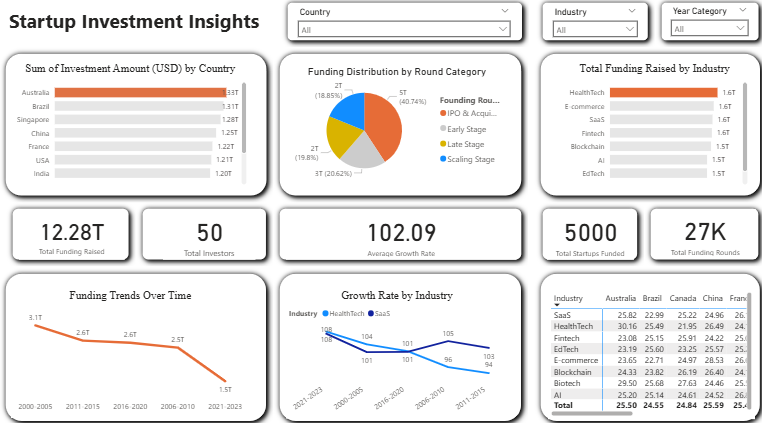

Layout of this report page (visuals, bound fields, positions):
{"tool":"powerbi","page":{"name":"Page 2","canvas":[1280,720],"ordinal":0},"visuals":[{"type":"shape","box":[0,85.3,456.9,258.8],"z":0},{"type":"shape","box":[456.9,85.3,425.3,258.8],"z":1000},{"type":"shape","box":[891.9,85.3,388.1,258.8],"z":2000},{"type":"shape","box":[0,451.4,456.9,268.4],"z":3000},{"type":"shape","box":[456.9,451.4,425.3,268.4],"z":4000},{"type":"shape","box":[891.9,451.4,388.1,268.4],"z":5000},{"type":"shape","box":[12.4,344.1,216.1,107.4],"z":6000},{"type":"shape","box":[456.9,344.1,425.3,107.4],"z":7000},{"type":"shape","box":[228.5,344.1,228.5,107.4],"z":8000},{"type":"shape","box":[894.6,344.1,180.3,107.4],"z":9000},{"type":"shape","box":[1074.9,342.7,202.3,107.4],"z":10000},{"type":"shape","box":[469.3,0,412.9,85.3],"z":11000},{"type":"shape","box":[894.6,0,198.2,85.3],"z":12000},{"type":"shape","box":[1092.8,0,184.4,85.3],"z":13000},{"type":"clusteredBarChart","fields":{"Category":["startup_growth_investment_data.Country"],"Y":["Sum(startup_growth_investment_data.Investment Amount (USD))"]},"box":[20.6,110.1,397.8,209.2],"z":14000},{"type":"pieChart","title":"Funding Distribution by Round Category","fields":{"Category":["startup_growth_investment_data.Founding Round Category"],"Y":["Sum(startup_growth_investment_data.Investment Amount (USD))"]},"box":[479,114.2,370.2,199.6],"z":15000},{"type":"clusteredBarChart","fields":{"Y":["startup_growth_investment_data.Total Funding Raised"],"Category":["startup_growth_investment_data.Industry"]},"box":[933.2,110.1,319.3,209.2],"z":16000},{"type":"card","fields":{"Values":["startup_growth_investment_data.Total Funding Raised"]},"box":[33,356.5,176.2,82.6],"z":17000},{"type":"card","fields":{"Values":["startup_growth_investment_data.Total Startups Funded"]},"box":[912.5,356.5,144.5,82.6],"z":18000},{"type":"card","fields":{"Values":["startup_growth_investment_data.Total Investors"]},"box":[273.9,356.5,154.2,82.6],"z":19000},{"type":"card","fields":{"Values":["startup_growth_investment_data.Average Growth Rate"]},"box":[479,356.5,384,82.6],"z":20000},{"type":"card","fields":{"Values":["startup_growth_investment_data.Total Funding Rounds"]},"box":[1092.8,355.1,167.9,82.6],"z":21000},{"type":"lineChart","title":"Funding Trends Over Time ","fields":{"Y":["Sum(startup_growth_investment_data.Investment Amount (USD))"],"Category":["startup_growth_investment_data.Year Category"]},"box":[20.6,488.6,397.8,214.7],"z":22000},{"type":"lineChart","title":"Growth Rate by Industry ","fields":{"Category":["startup_growth_investment_data.Year Category"],"Y":["Avg(startup_growth_investment_data.Growth Rate (%))"],"Series":["startup_growth_investment_data.Industry"]},"box":[479,488.6,370.2,216.1],"z":23000},{"type":"pivotTable","fields":{"Rows":["startup_growth_investment_data.Industry"],"Columns":["startup_growth_investment_data.Country"],"Values":["startup_growth_investment_data.Avg Investors"]},"box":[915.3,488.6,345.5,217.5],"z":24000},{"type":"slicer","fields":{"Values":["startup_growth_investment_data.Country"]},"box":[488.6,13.8,374.4,59.2],"z":25000},{"type":"slicer","fields":{"Values":["startup_growth_investment_data.Industry"]},"box":[912.5,13.8,161,59.2],"z":26000},{"type":"slicer","fields":{"Values":["startup_growth_investment_data.Year Category"]},"box":[1110.7,12.4,148.6,60.6],"z":27000},{"type":"textbox","box":[12,13.4,445.1,59.8],"z":28000}]}

Visuals, with their boxes in screenshot pixels (x1, y1, x2, y2), scaled from the page's 1280x720 canvas onto the 762x423 screenshot:
shape: (0, 50, 272, 202)
shape: (272, 50, 525, 202)
shape: (531, 50, 761, 202)
shape: (0, 265, 272, 422)
shape: (272, 265, 525, 422)
shape: (531, 265, 761, 422)
shape: (7, 202, 136, 265)
shape: (272, 202, 525, 265)
shape: (136, 202, 272, 265)
shape: (533, 202, 640, 265)
shape: (640, 201, 760, 264)
shape: (279, 0, 525, 50)
shape: (533, 0, 651, 50)
shape: (651, 0, 760, 50)
clusteredBarChart - startup_growth_investment_data.Country x Sum(startup_growth_investment_data.Investment Amount (USD)): (12, 65, 249, 188)
"Funding Distribution by Round Category" pieChart: (285, 67, 506, 184)
clusteredBarChart - startup_growth_investment_data.Total Funding Raised x startup_growth_investment_data.Industry: (556, 65, 746, 188)
card - startup_growth_investment_data.Total Funding Raised: (20, 209, 125, 258)
card - startup_growth_investment_data.Total Startups Funded: (543, 209, 629, 258)
card - startup_growth_investment_data.Total Investors: (163, 209, 255, 258)
card - startup_growth_investment_data.Average Growth Rate: (285, 209, 514, 258)
card - startup_growth_investment_data.Total Funding Rounds: (651, 209, 751, 257)
"Funding Trends Over Time " lineChart: (12, 287, 249, 413)
"Growth Rate by Industry " lineChart: (285, 287, 506, 414)
pivotTable - startup_growth_investment_data.Industry x startup_growth_investment_data.Country: (545, 287, 751, 415)
slicer - startup_growth_investment_data.Country: (291, 8, 514, 43)
slicer - startup_growth_investment_data.Industry: (543, 8, 639, 43)
slicer - startup_growth_investment_data.Year Category: (661, 7, 750, 43)
textbox: (7, 8, 272, 43)
